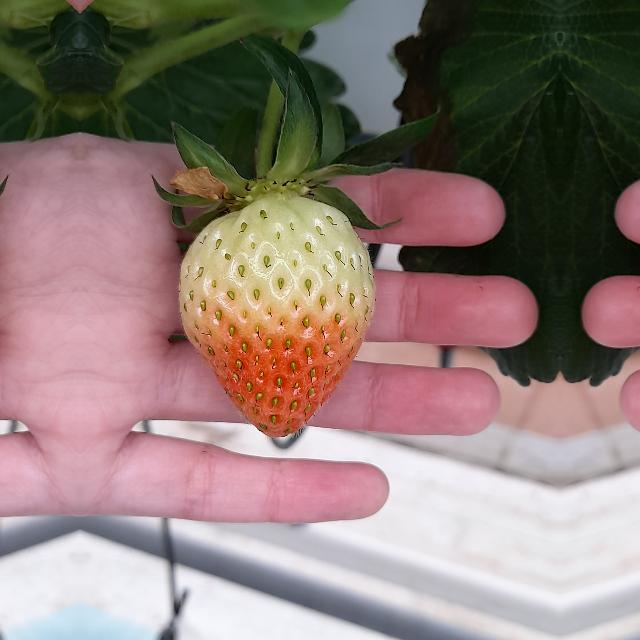Health_50: (178, 189, 376, 437)
